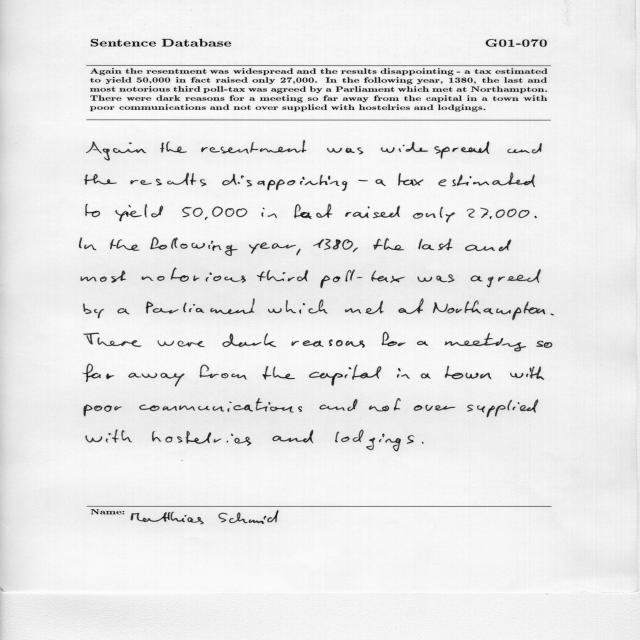word: (139, 398, 302, 413), (433, 301, 546, 321), (222, 173, 347, 191), (381, 141, 489, 159), (146, 298, 255, 314), (335, 430, 414, 452), (150, 237, 238, 256), (320, 270, 405, 289), (142, 268, 246, 283), (445, 333, 526, 352), (309, 365, 381, 386), (152, 431, 252, 446), (201, 140, 307, 154), (438, 173, 535, 187), (467, 399, 538, 418), (471, 269, 541, 287), (86, 141, 146, 161), (131, 173, 207, 186), (183, 206, 248, 220), (268, 299, 327, 314), (83, 333, 142, 347), (115, 204, 163, 221), (223, 333, 277, 347), (128, 373, 185, 386), (345, 206, 400, 219), (200, 365, 247, 380), (467, 208, 529, 219), (291, 339, 365, 348), (413, 207, 455, 222), (445, 366, 491, 379), (86, 430, 132, 443), (81, 270, 126, 283), (294, 204, 332, 219), (249, 242, 296, 254), (257, 270, 308, 281), (83, 364, 114, 382), (465, 240, 511, 252), (273, 430, 314, 443), (345, 301, 384, 314), (313, 238, 353, 250), (510, 366, 544, 380), (263, 366, 296, 380), (84, 405, 122, 417), (320, 399, 358, 411), (418, 239, 453, 251), (398, 298, 424, 314), (369, 398, 401, 411), (374, 238, 405, 250), (84, 174, 117, 185), (507, 143, 542, 153), (110, 239, 139, 251), (83, 303, 104, 319), (382, 332, 406, 346), (158, 340, 205, 347), (398, 173, 423, 186), (160, 142, 187, 153), (418, 275, 455, 283), (414, 404, 455, 411), (327, 148, 363, 155), (80, 237, 97, 250), (86, 204, 100, 217), (262, 208, 277, 218), (397, 368, 410, 379), (536, 341, 553, 348), (117, 308, 130, 314), (375, 179, 386, 186), (417, 341, 428, 346), (421, 374, 431, 379), (296, 249, 301, 256), (353, 248, 358, 252), (358, 180, 368, 181), (550, 314, 554, 316), (534, 216, 537, 218), (422, 442, 424, 444)
